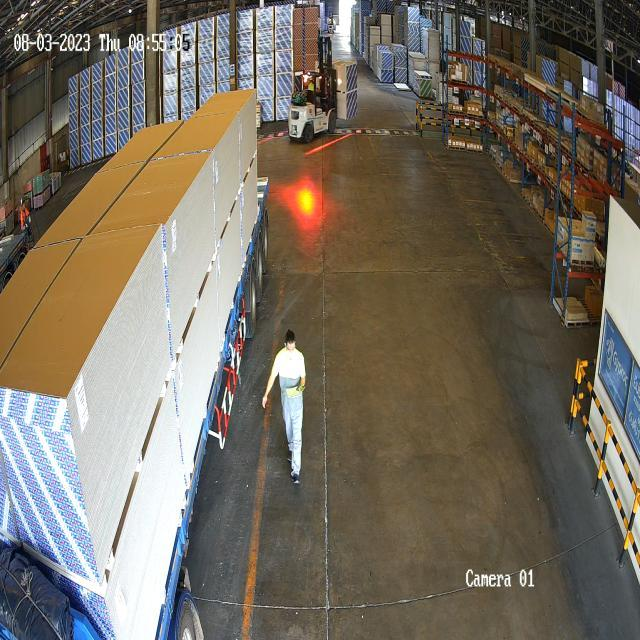forklift: (286, 66, 342, 156)
person: (265, 330, 310, 486)
